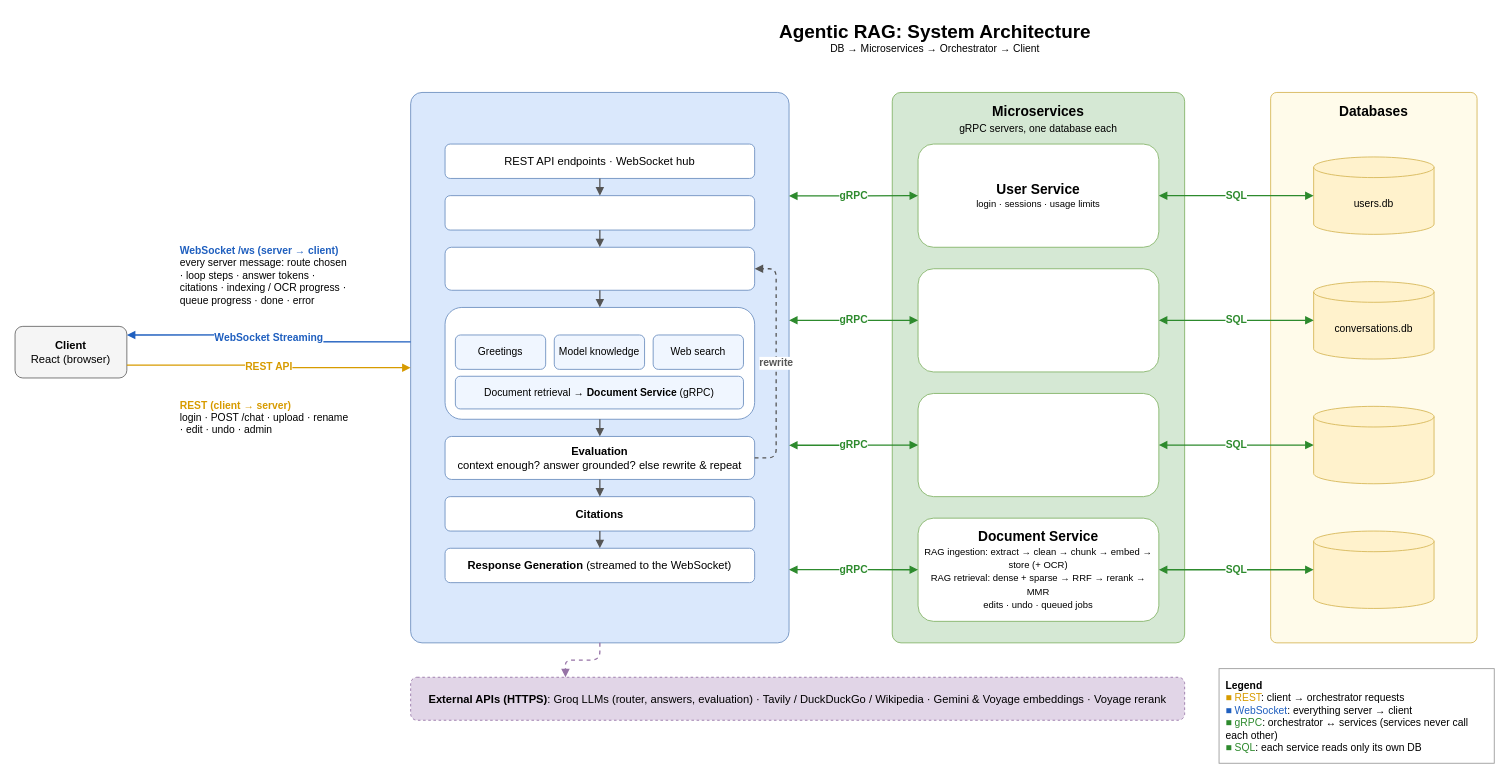
Image size: 1509x778. Some labels were removed from this diagram. The shapes that lost their labels are listed below. From the top down, each one's box as (x1, y1, x2, y2) in pixels, then its label:
(444, 195, 755, 230): Intent Router
(444, 246, 755, 290): Agentic Loop plan → act → observe → reflect → repeat
(917, 268, 1159, 372): Conversation Service conversations · messages
(444, 307, 755, 419): Tool Selection
(410, 92, 789, 643): Orchestrator (FastAPI + LangGraph) no database
(917, 393, 1159, 497): Memory Service user facts · past-chat recall
(1313, 405, 1434, 484): memory.db + Qdrant (episodes)
(1313, 530, 1434, 608): documents.db + Qdrant (passages)
